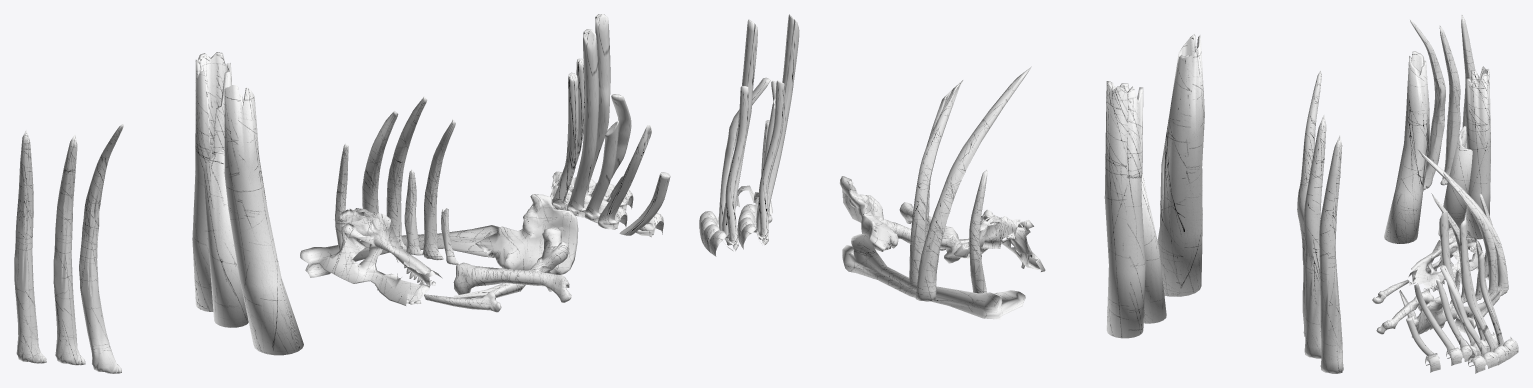
3 views of the same model, side by side, from view 1: azimuth 30°, elevation 25°; view 2: azimuth 150°, elevation 25°; view 3: azimuth 270°, elevation 25° (orthographic). The views are drawn at different scales.
Visible parts, largest first — view 1: Tube03_1, objAbdomen02_1, Tube01_1, skull01_1, 骨架_obj, Tube02_1, objRight_Thigh63_1, objRight_Thigh61_1, objRight_Thigh62_1, objAbdomen03_1, objRight_Thigh73_1, L_Knee01_1 (+7 smaller); view 2: Tube03_1, Tube01_1, objAbdomen03_1, objAbdomen02_1, objRight_Thigh61_1, L_Knee01_1, objRight_Thigh72_1, objRight_Thigh62_1, objRight_Thigh71_1, skull01_1, Tube02_1, 骨架_obj (+4 smaller); view 3: Tube03_1, objAbdomen03_1, Tube01_1, objAbdomen02_1, skull01_1, objRight_Thigh63_1, Tube02_1, objRight_Thigh62_1, 骨架_obj, objRight_Thigh71_1, objRight_Thigh72_1, objRight_Thigh61_1 (+7 smaller).
Boxes of the visible parts, x1,y1,x2,y2 form: Tube03_1: (224, 85, 303, 355); objAbdomen02_1: (550, 29, 651, 229); Tube01_1: (192, 52, 231, 311); skull01_1: (319, 208, 442, 305); 骨架_obj: (475, 172, 670, 274); Tube02_1: (203, 150, 248, 327); objRight_Thigh63_1: (79, 123, 123, 373); objRight_Thigh61_1: (14, 130, 46, 363); objRight_Thigh62_1: (53, 134, 85, 365); objAbdomen03_1: (552, 14, 633, 210); objRight_Thigh73_1: (453, 262, 571, 302); L_Knee01_1: (300, 225, 499, 277); Tube03_1: (1157, 34, 1204, 296); Tube01_1: (1104, 81, 1145, 338); objAbdomen03_1: (699, 19, 770, 256); objAbdomen02_1: (737, 14, 799, 249); objRight_Thigh61_1: (1319, 135, 1343, 373); L_Knee01_1: (842, 234, 1025, 319); objRight_Thigh72_1: (915, 66, 1031, 301); objRight_Thigh62_1: (1303, 115, 1326, 358); objRight_Thigh71_1: (909, 80, 963, 283); skull01_1: (953, 214, 1045, 271); Tube02_1: (1141, 173, 1166, 323); 骨架_obj: (735, 120, 898, 251); Tube03_1: (1384, 51, 1430, 243); objAbdomen03_1: (1440, 220, 1518, 373); Tube01_1: (1465, 66, 1490, 239); objAbdomen02_1: (1414, 211, 1498, 365); skull01_1: (1408, 228, 1482, 291); objRight_Thigh63_1: (1410, 20, 1445, 190); Tube02_1: (1438, 126, 1472, 235); objRight_Thigh62_1: (1439, 25, 1460, 185); 骨架_obj: (1406, 296, 1457, 372); objRight_Thigh71_1: (1443, 173, 1497, 294); objRight_Thigh72_1: (1418, 150, 1508, 296); objRight_Thigh61_1: (1461, 15, 1475, 127).
Bounding box in the file's own units: 110 × 46.53 × 33.58.
Materials: 1 (1 with a texture image).
